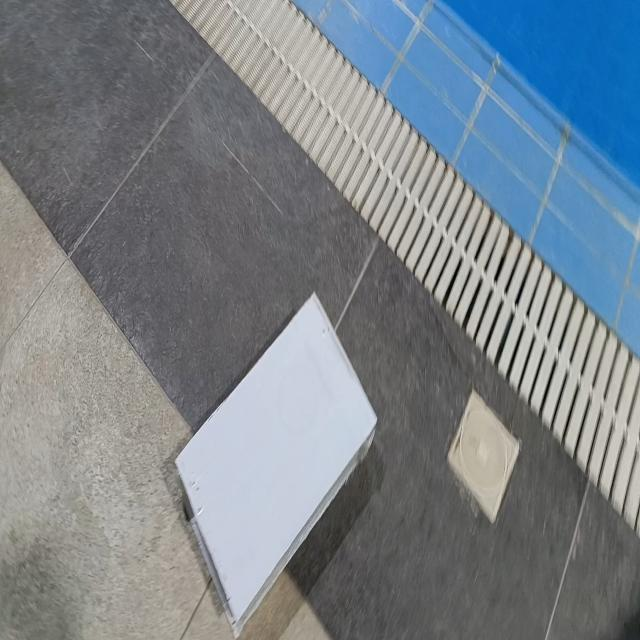Cuboid: (174, 290, 378, 636)
